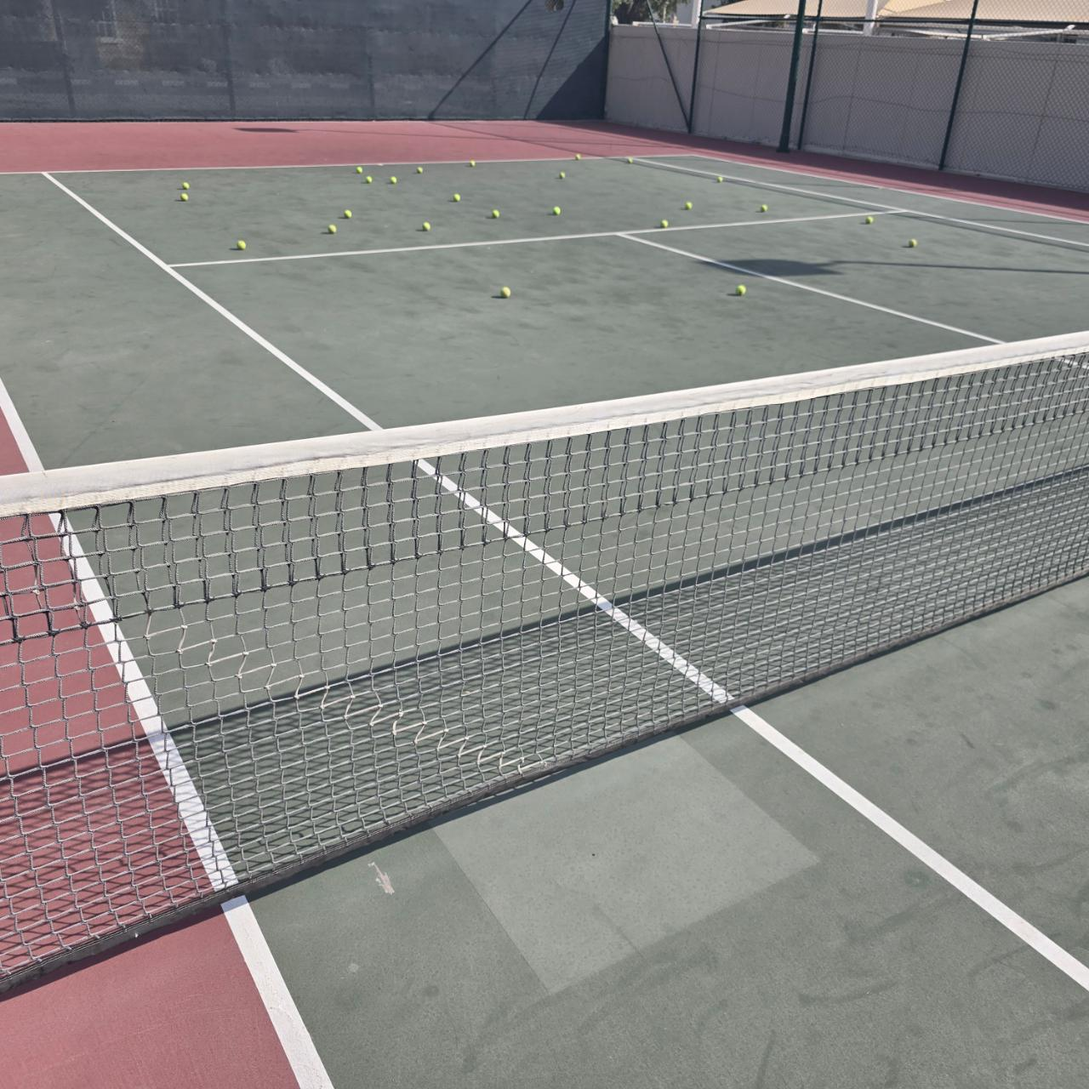tennis-ball: (234, 237, 247, 250), (499, 284, 510, 298), (325, 222, 337, 234), (734, 282, 745, 294)
